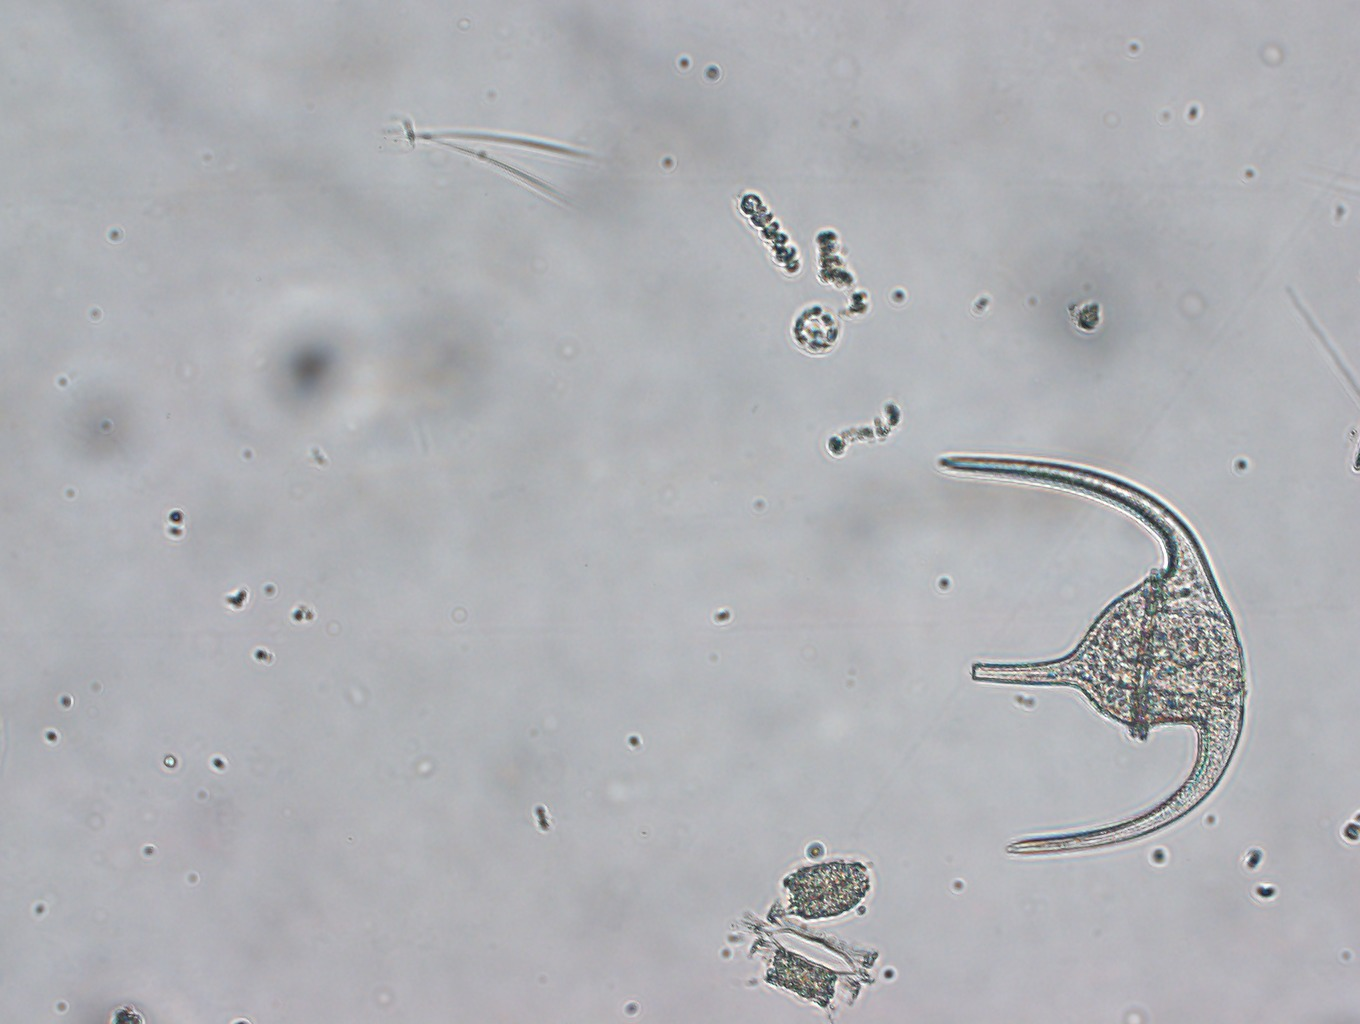ceratium tripos: (929, 445, 1252, 861)
